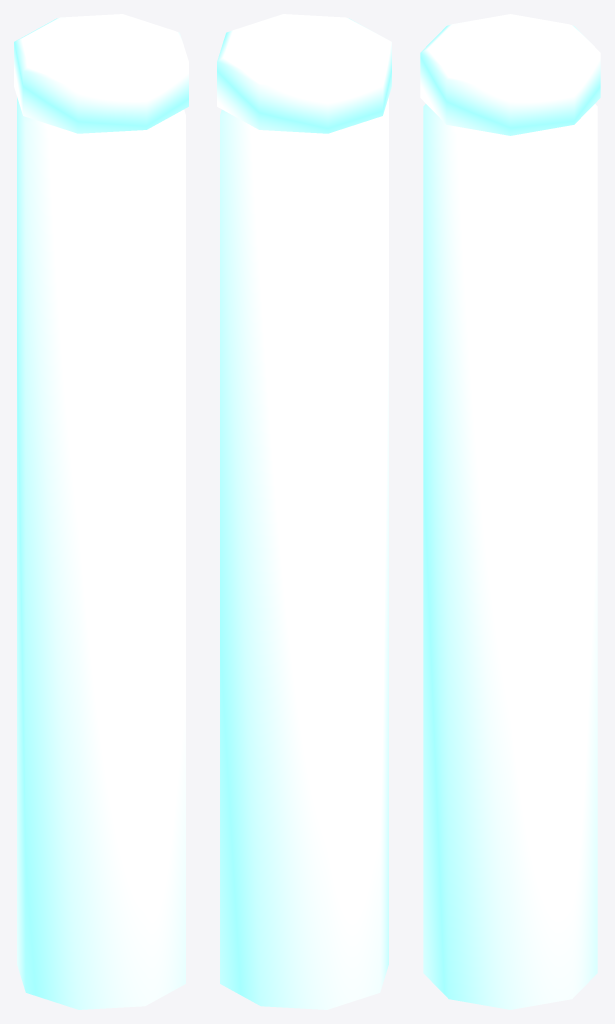
Rendered from neon-lamp.glb.
3 views of the same model, side by side, from view 1: azimuth 30°, elevation 25°; view 2: azimuth 150°, elevation 25°; view 3: azimuth 270°, elevation 25° (orthographic).
Parts seen in each view (by area): view 1: Cylinder; view 2: Cylinder; view 3: Cylinder.
Part boxes in pixels (<box>): Cylinder: <box>14,14,188,1009</box>; Cylinder: <box>217,14,391,1009</box>; Cylinder: <box>420,14,600,1009</box>.
Size of the model in its own units: 2.07 by 11.7 by 2.07.
